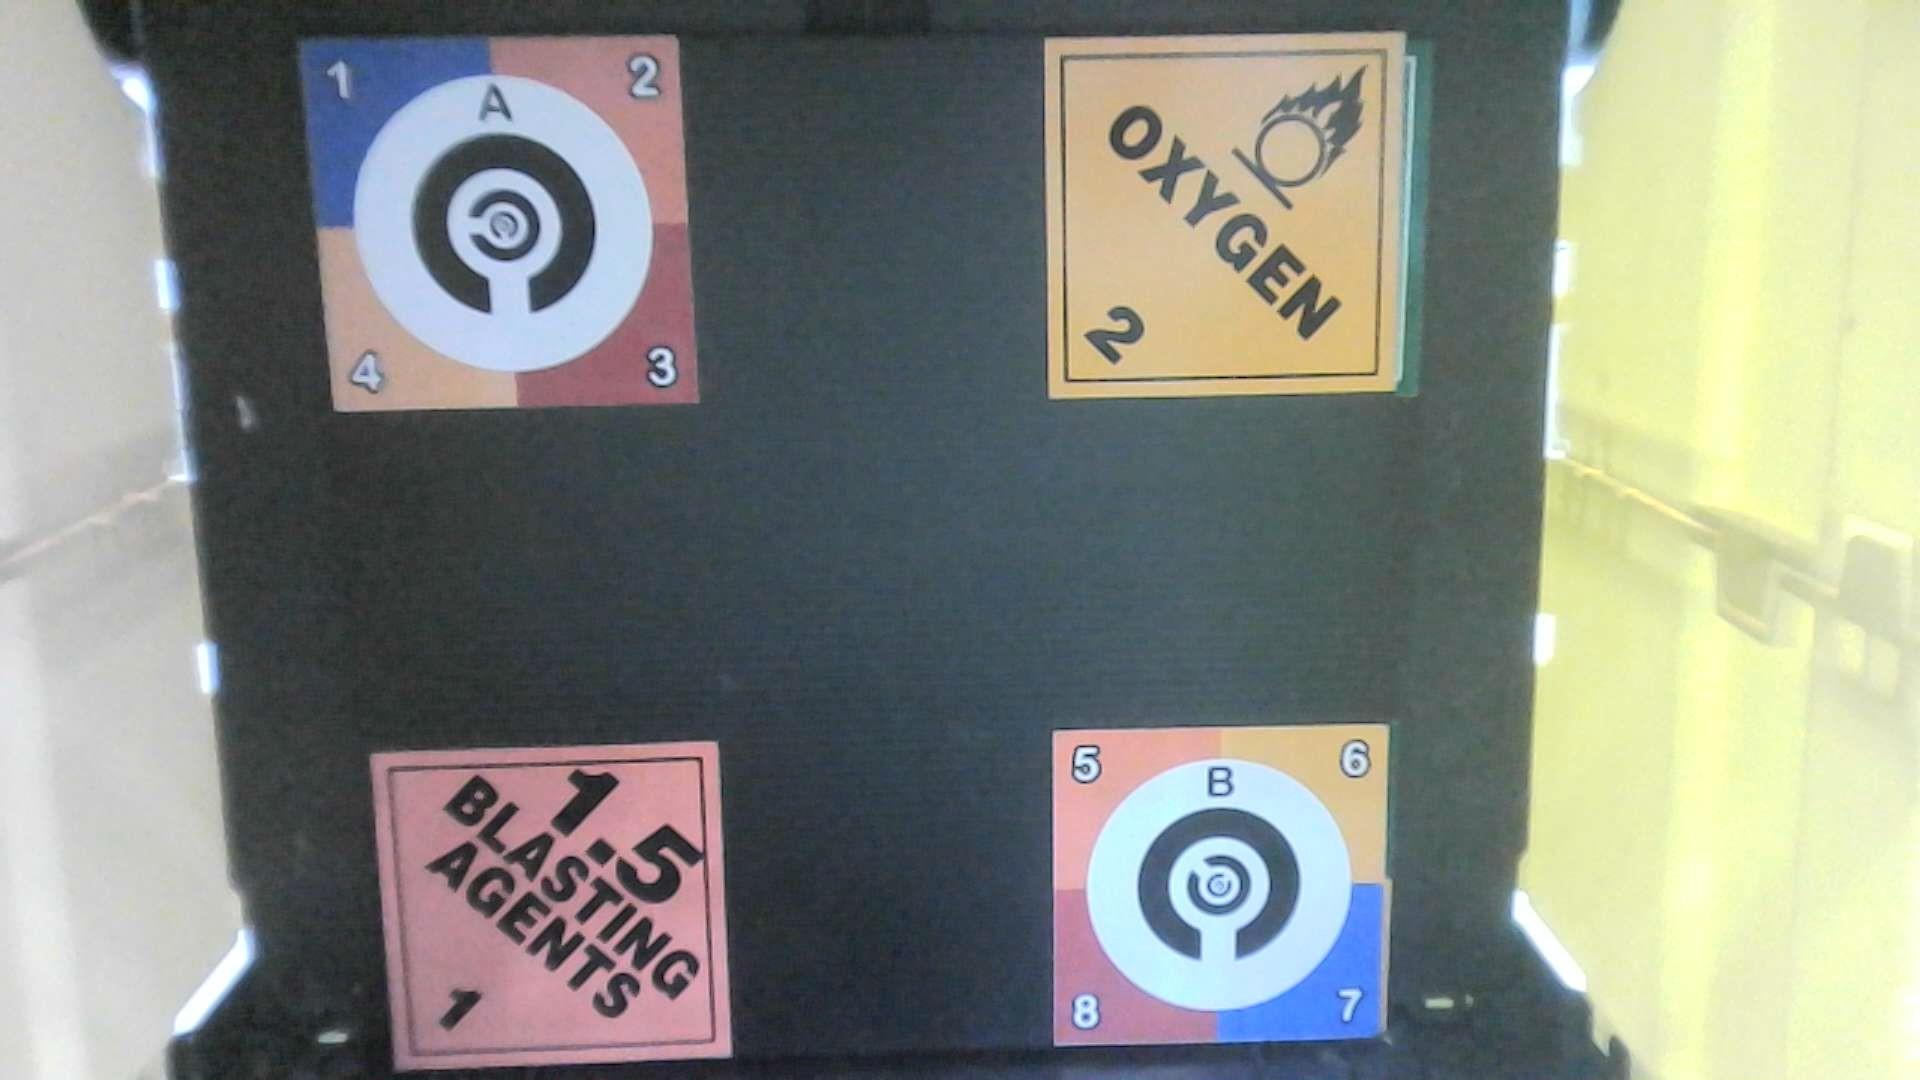explosive: (359, 746, 764, 1080)
oxidizer: (1033, 40, 1420, 409)
